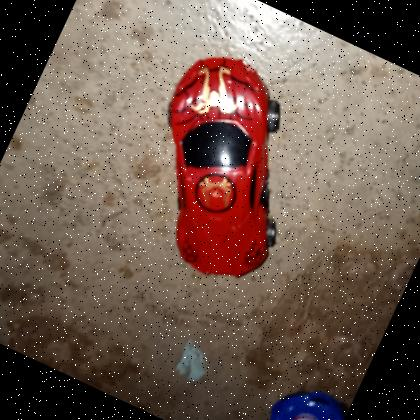Car: (168, 55, 281, 277)
